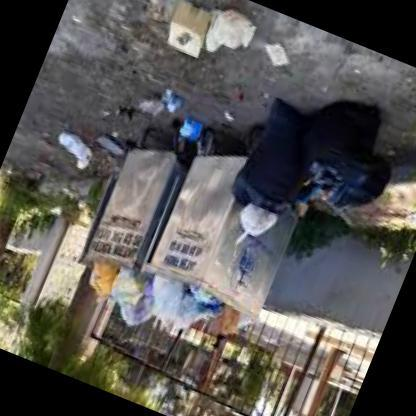Garbage: (230, 64, 415, 248), (161, 0, 264, 76), (136, 77, 188, 127), (234, 193, 282, 240), (51, 127, 102, 166), (261, 35, 294, 69), (174, 112, 206, 146)
